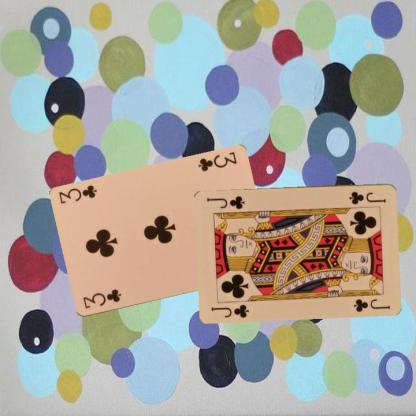3c: (195, 149, 238, 173), (80, 287, 122, 310)
Jc: (346, 189, 388, 206), (208, 302, 250, 319)
